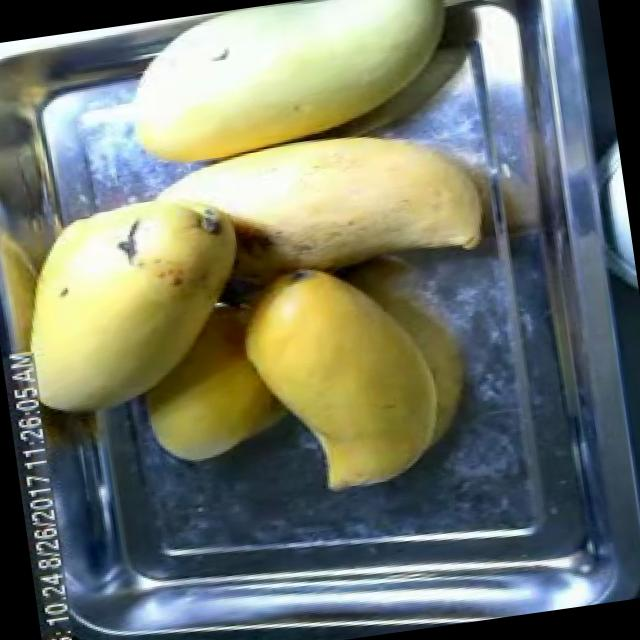fruit: (0, 165, 278, 434), (221, 241, 468, 515), (177, 113, 505, 307), (104, 0, 477, 167)
